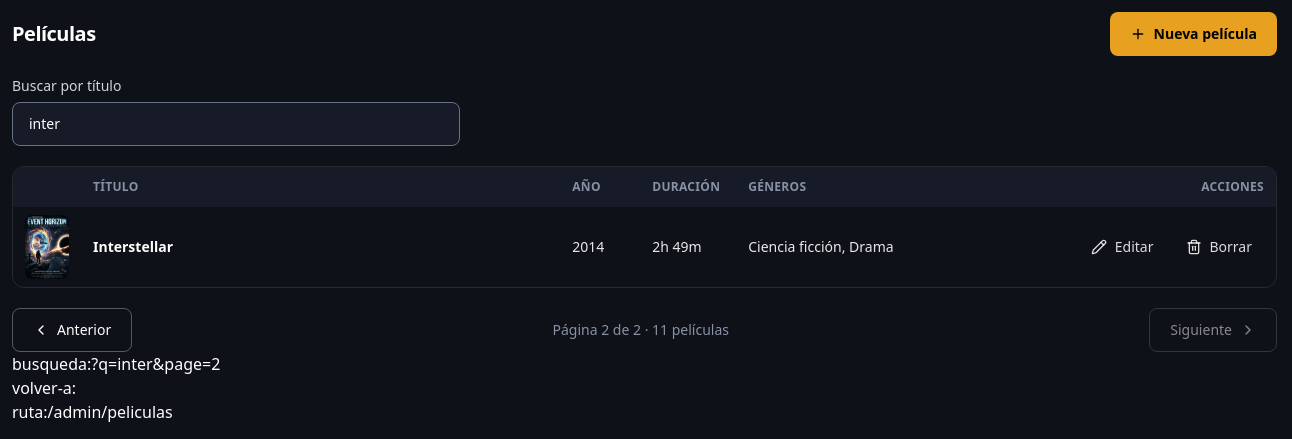
Test: AdminMoviesPage: listado › «Editar» pasa al formulario la URL del listado (búsqueda y página) para volver al mismo sitio
Click the link with aria-label "Editar Interstellar" at (1122, 246), box [1091,237,1154,256]
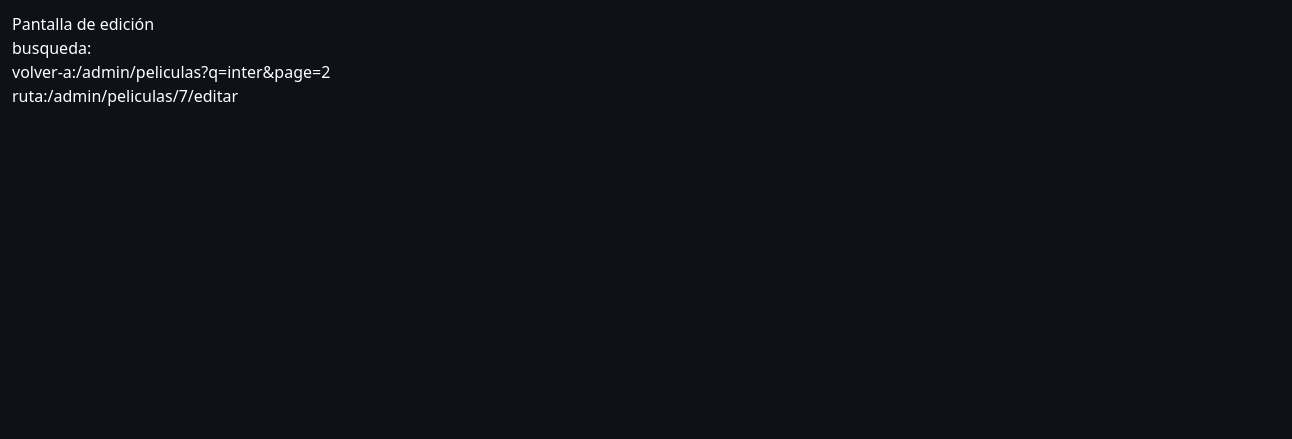
Check: the text "Pantalla de edición" is shown, box [12,13,154,35]
Check: the text "volver-a:/admin/peliculas?q=inter&page=2" is shown, box [12,61,330,83]
